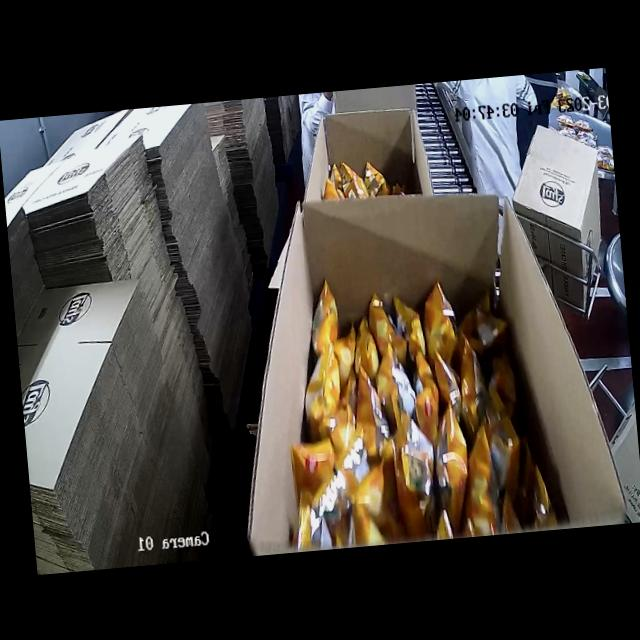cheese: (302, 292, 532, 548), (312, 151, 423, 200)
